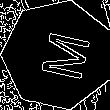M_W: (28, 27, 88, 83)
